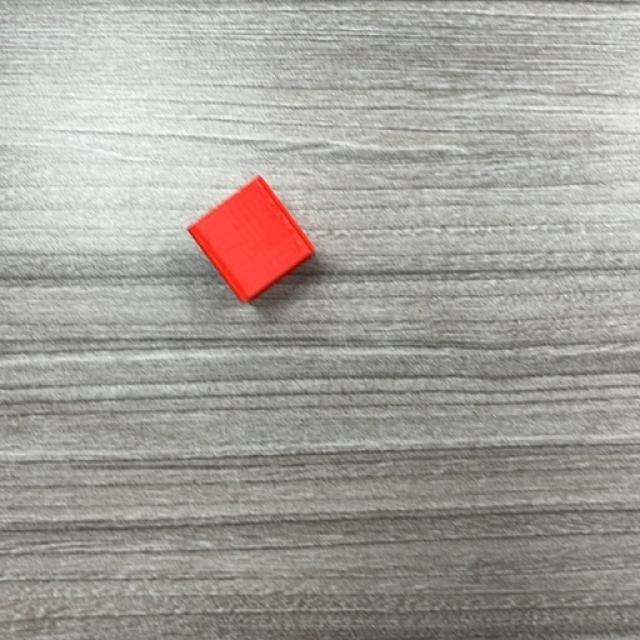Rojo: (188, 176, 316, 304)
